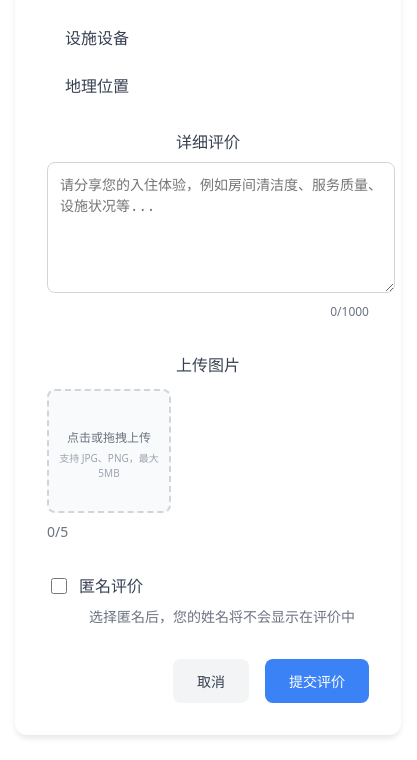
ReviewForm.vue › validates required fields on submit
(page scrolled)
Click the submit button at (317, 681), box [265, 659, 369, 703]
(page scrolled)
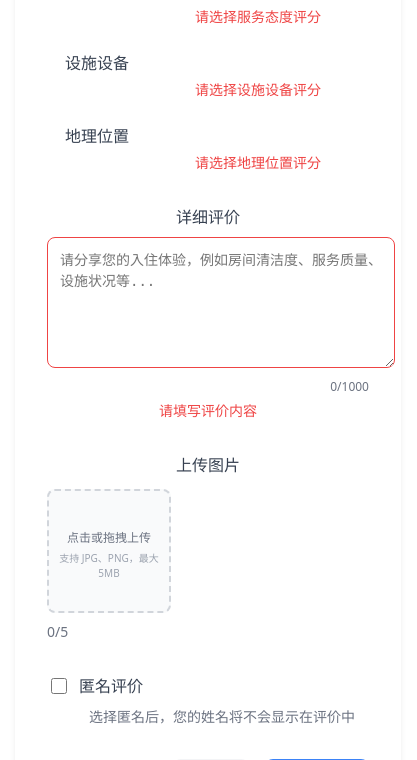
Expected: the text "请填写评价内容" is shown, [159, 401, 257, 420]
